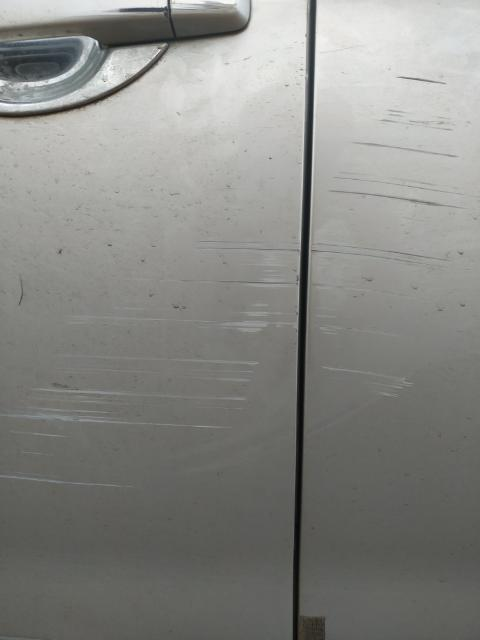scratch: (0, 184, 301, 486), (312, 61, 479, 403)
